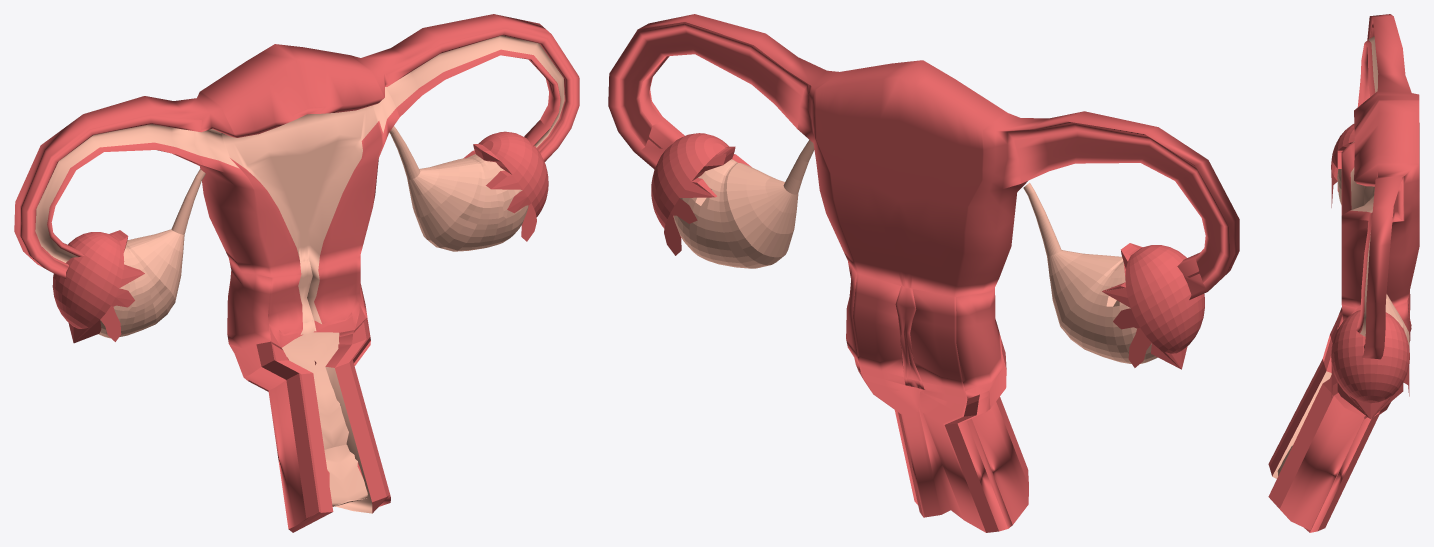
File: Mrd.V.fbx
3 views of the same model, side by side, from view 1: azimuth 30°, elevation 25°; view 2: azimuth 150°, elevation 25°; view 3: azimuth 270°, elevation 25° (orthographic). The views are drawn at different scales.
Parts seen in each view (by area): view 1: Cube; view 2: Cube; view 3: Cube.
Part boxes in pixels (x1,y1,x2,y2): Cube: (14, 14, 579, 532); Cube: (608, 14, 1239, 532); Cube: (1268, 14, 1419, 532).
Size of the model in its own units: 682 by 512 by 170.
